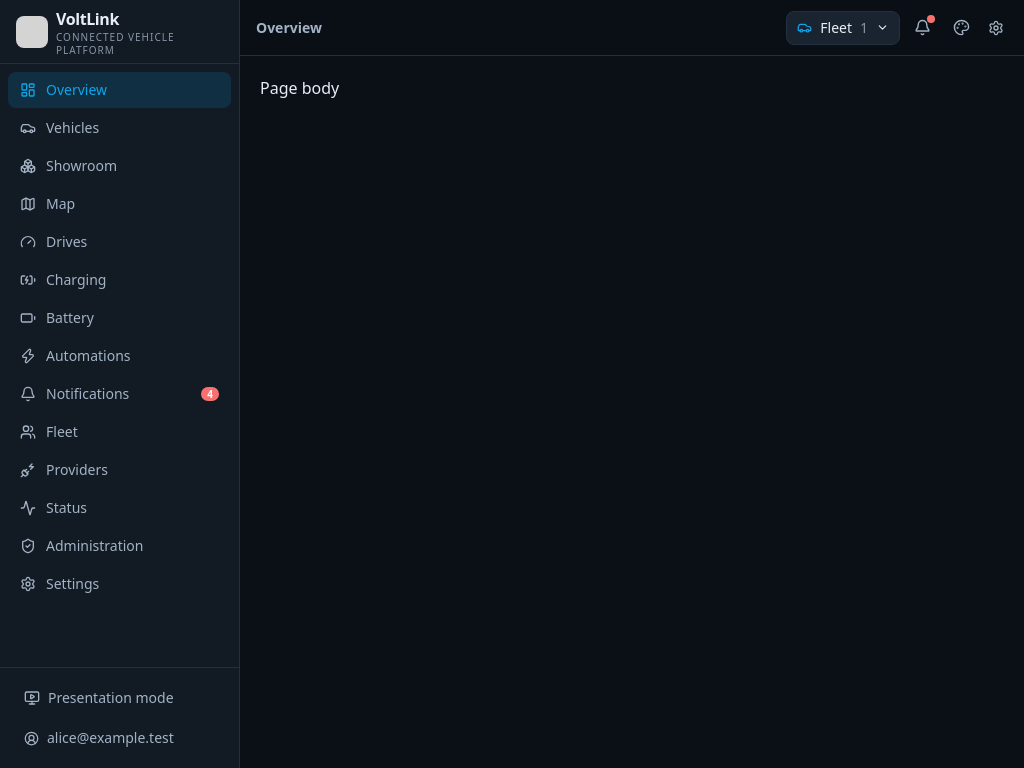
Test: Shell page › toggles a favorite through the API
This screenshot has width=1024, height=768.
Click the button "Fleet 1". click: (843, 28)
box: [786,10,900,44]
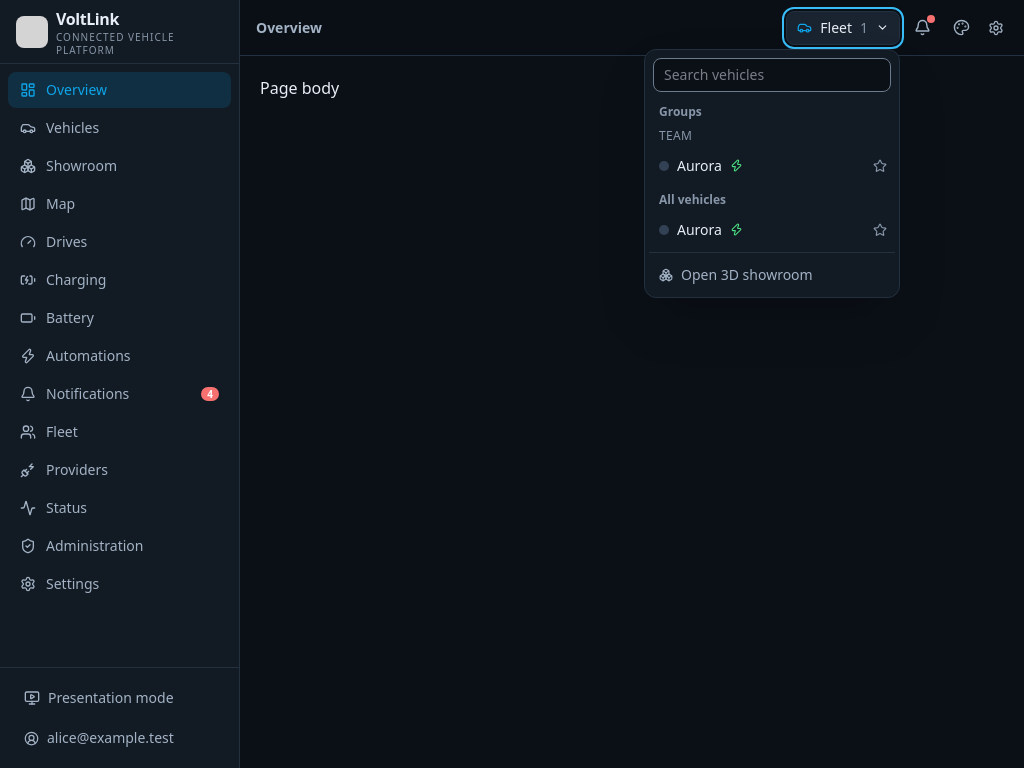
Click the button named "Add Aurora to favorites" below "Team". click: (880, 166)
box: [869,154,891,176]
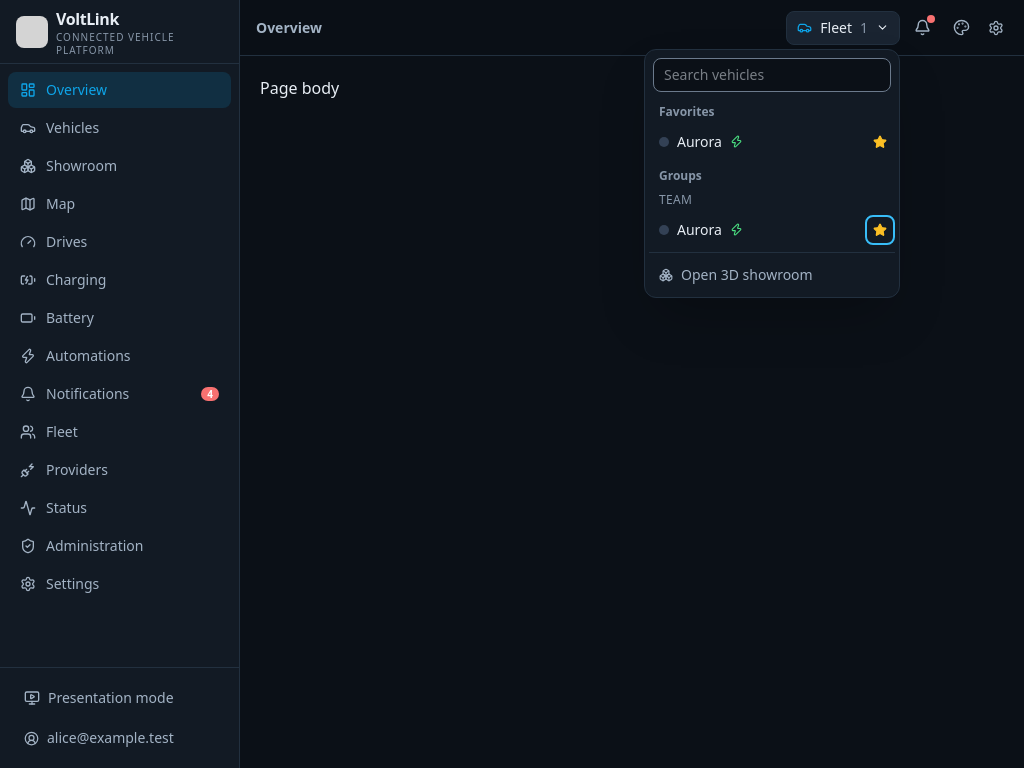
Check: the 1st button named "Remove Aurora from favorites" is shown, box [869,130,891,152]
